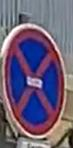paragem e estacionamento proibido: (1, 21, 69, 142)
